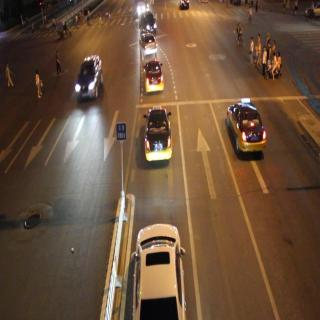Car: (134, 223, 189, 320), (226, 98, 266, 154), (140, 106, 174, 168), (75, 57, 103, 101), (141, 60, 165, 92), (138, 10, 158, 36), (137, 34, 157, 53)
